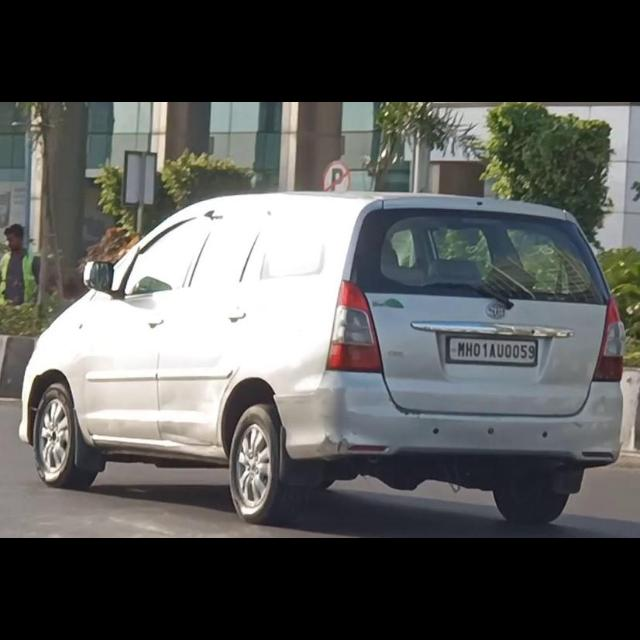vehicles: (20, 188, 626, 538)
